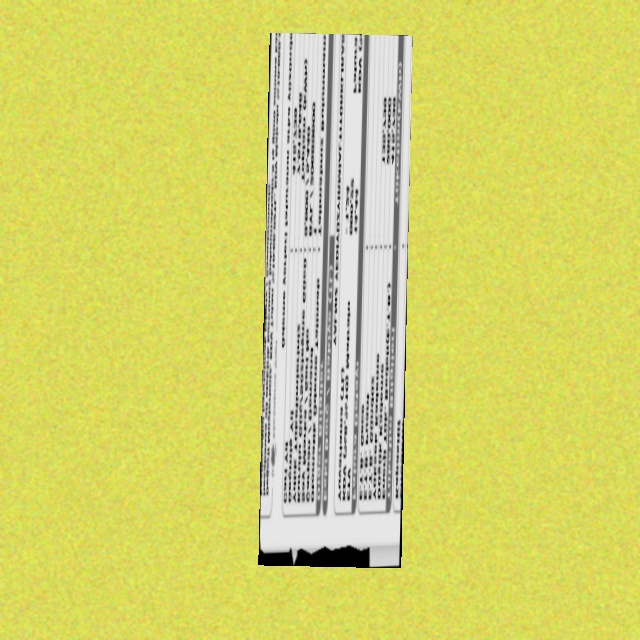electricity-bill: (258, 32, 413, 568)
